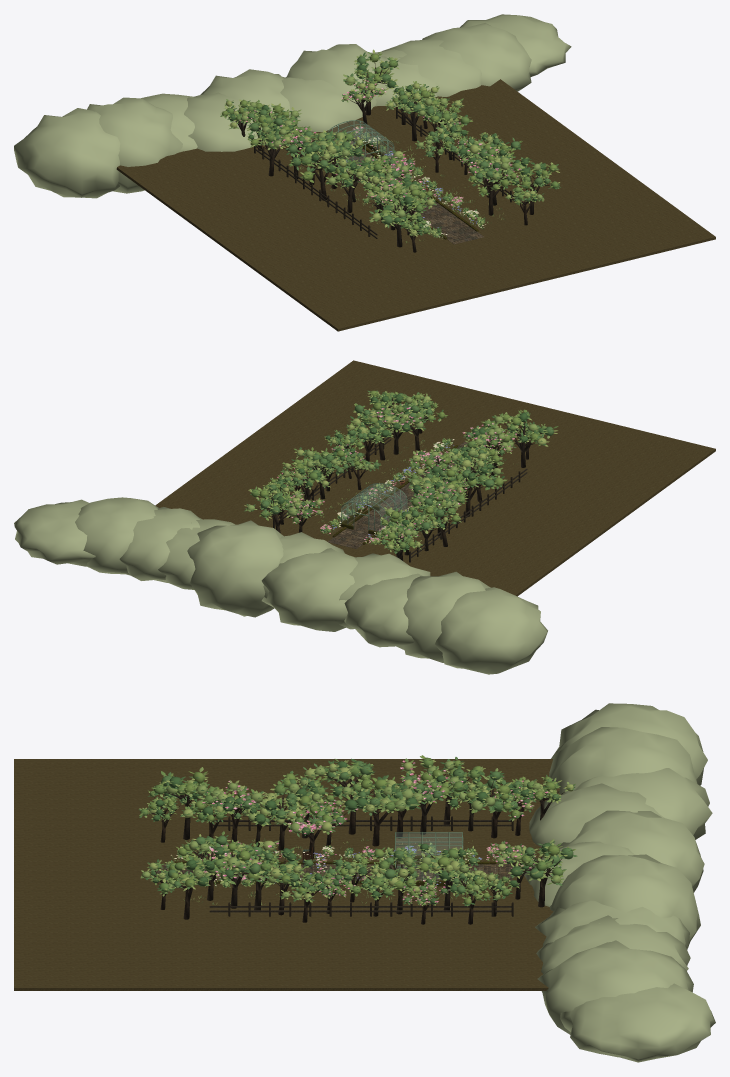
Rendered from garden-1.glb.
3 views of the same model, one above another, from view 1: azimuth 30°, elevation 25°; view 2: azimuth 150°, elevation 25°; view 3: azimuth 270°, elevation 25° (orthographic). The views are drawn at different scales.
Parts seen in each view (by area): view 1: Terrain.001, Distant garden ridges.001, Inner canopy clusters.001, Canopy leaf sprays.001, Branch forks.001, Forked timber and bark.001, Individual garden flagstones.001, Sculpted petals.001, Oval leaves on low shrubs.001, Garden fence rails.001, Leaf masses inside low shrubs.001, Garden fence posts.001; view 2: Terrain.001, Distant garden ridges.001, Inner canopy clusters.001, Canopy leaf sprays.001, Branch forks.001, Individual garden flagstones.001, Forked timber and bark.001, Sculpted petals.001, Oval leaves on low shrubs.001, Garden fence rails.001, Leaf masses inside low shrubs.001, Garden fence posts.001; view 3: Terrain.001, Distant garden ridges.001, Inner canopy clusters.001, Canopy leaf sprays.001, Forked timber and bark.001, Branch forks.001, Garden fence rails.001, Sculpted petals.001, Individual garden flagstones.001, Garden fence posts.001, Oval leaves on low shrubs.001, Leaf masses inside low shrubs.001.
Boxes of the visible parts, x1,y1,x2,y2 form: Terrain.001: (116,79,715,331); Distant garden ridges.001: (14,14,571,198); Inner canopy clusters.001: (222,53,558,236); Canopy leaf sprays.001: (220,49,560,236); Branch forks.001: (231,62,550,240); Forked timber and bark.001: (239,71,537,252); Individual garden flagstones.001: (312,133,483,244); Sculpted petals.001: (239,78,521,237); Oval leaves on low shrubs.001: (336,126,485,237); Garden fence rails.001: (255,111,514,238); Leaf masses inside low shrubs.001: (336,129,485,237); Garden fence posts.001: (254,107,511,236); Terrain.001: (155,360,715,596); Distant garden ridges.001: (14,497,547,674); Inner canopy clusters.001: (247,390,553,552); Canopy leaf sprays.001: (244,390,558,553); Branch forks.001: (255,397,543,558); Individual garden flagstones.001: (328,441,479,548); Forked timber and bark.001: (272,399,529,560); Sculpted petals.001: (277,404,516,542); Oval leaves on low shrubs.001: (320,438,452,544); Garden fence rails.001: (275,437,527,557); Leaf masses inside low shrubs.001: (321,439,487,544); Garden fence posts.001: (273,439,520,562); Terrain.001: (14,759,560,990); Distant garden ridges.001: (524,703,715,1062); Inner canopy clusters.001: (140,757,573,905); Canopy leaf sprays.001: (138,755,577,906); Forked timber and bark.001: (160,776,544,924); Branch forks.001: (148,771,564,910); Garden fence rails.001: (209,820,511,912); Sculpted petals.001: (171,760,548,905); Individual garden flagstones.001: (157,864,512,882); Garden fence posts.001: (228,816,513,916); Oval leaves on low shrubs.001: (177,842,498,887); Leaf masses inside low shrubs.001: (177,846,498,886).
Bounding box in the file's own units: 53.91 × 10.15 × 49.26.
Materials: 10 (4 with a texture image).
